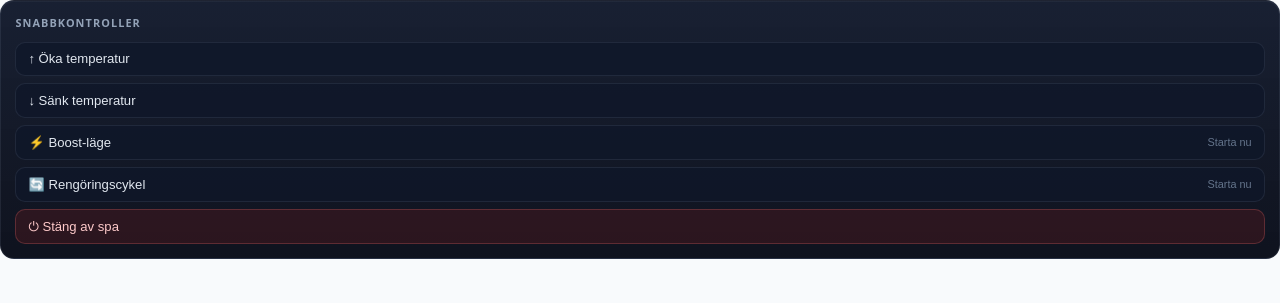
SpaQuickControls › shows API failure message
Click the button "🔄 Rengöringscykel Starta nu". click: click(87, 184)
box: 15,167 -> 1265,202
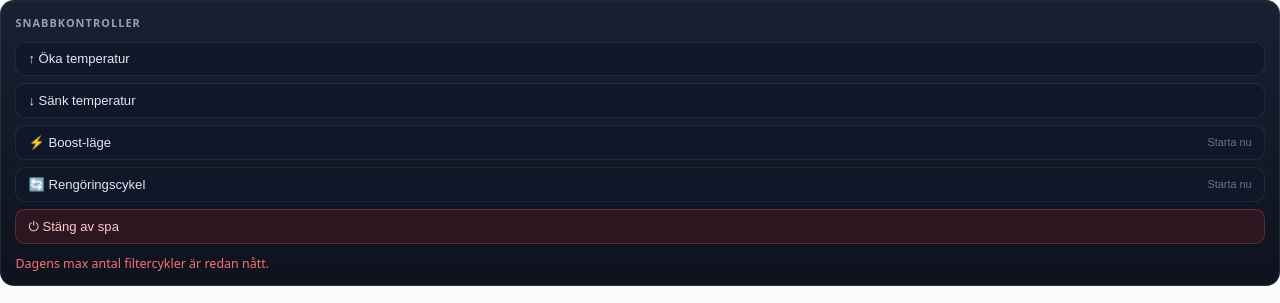
Check: the text "Dagens max antal filtercykler är redan nått." is shown, box 15,255 -> 269,272
